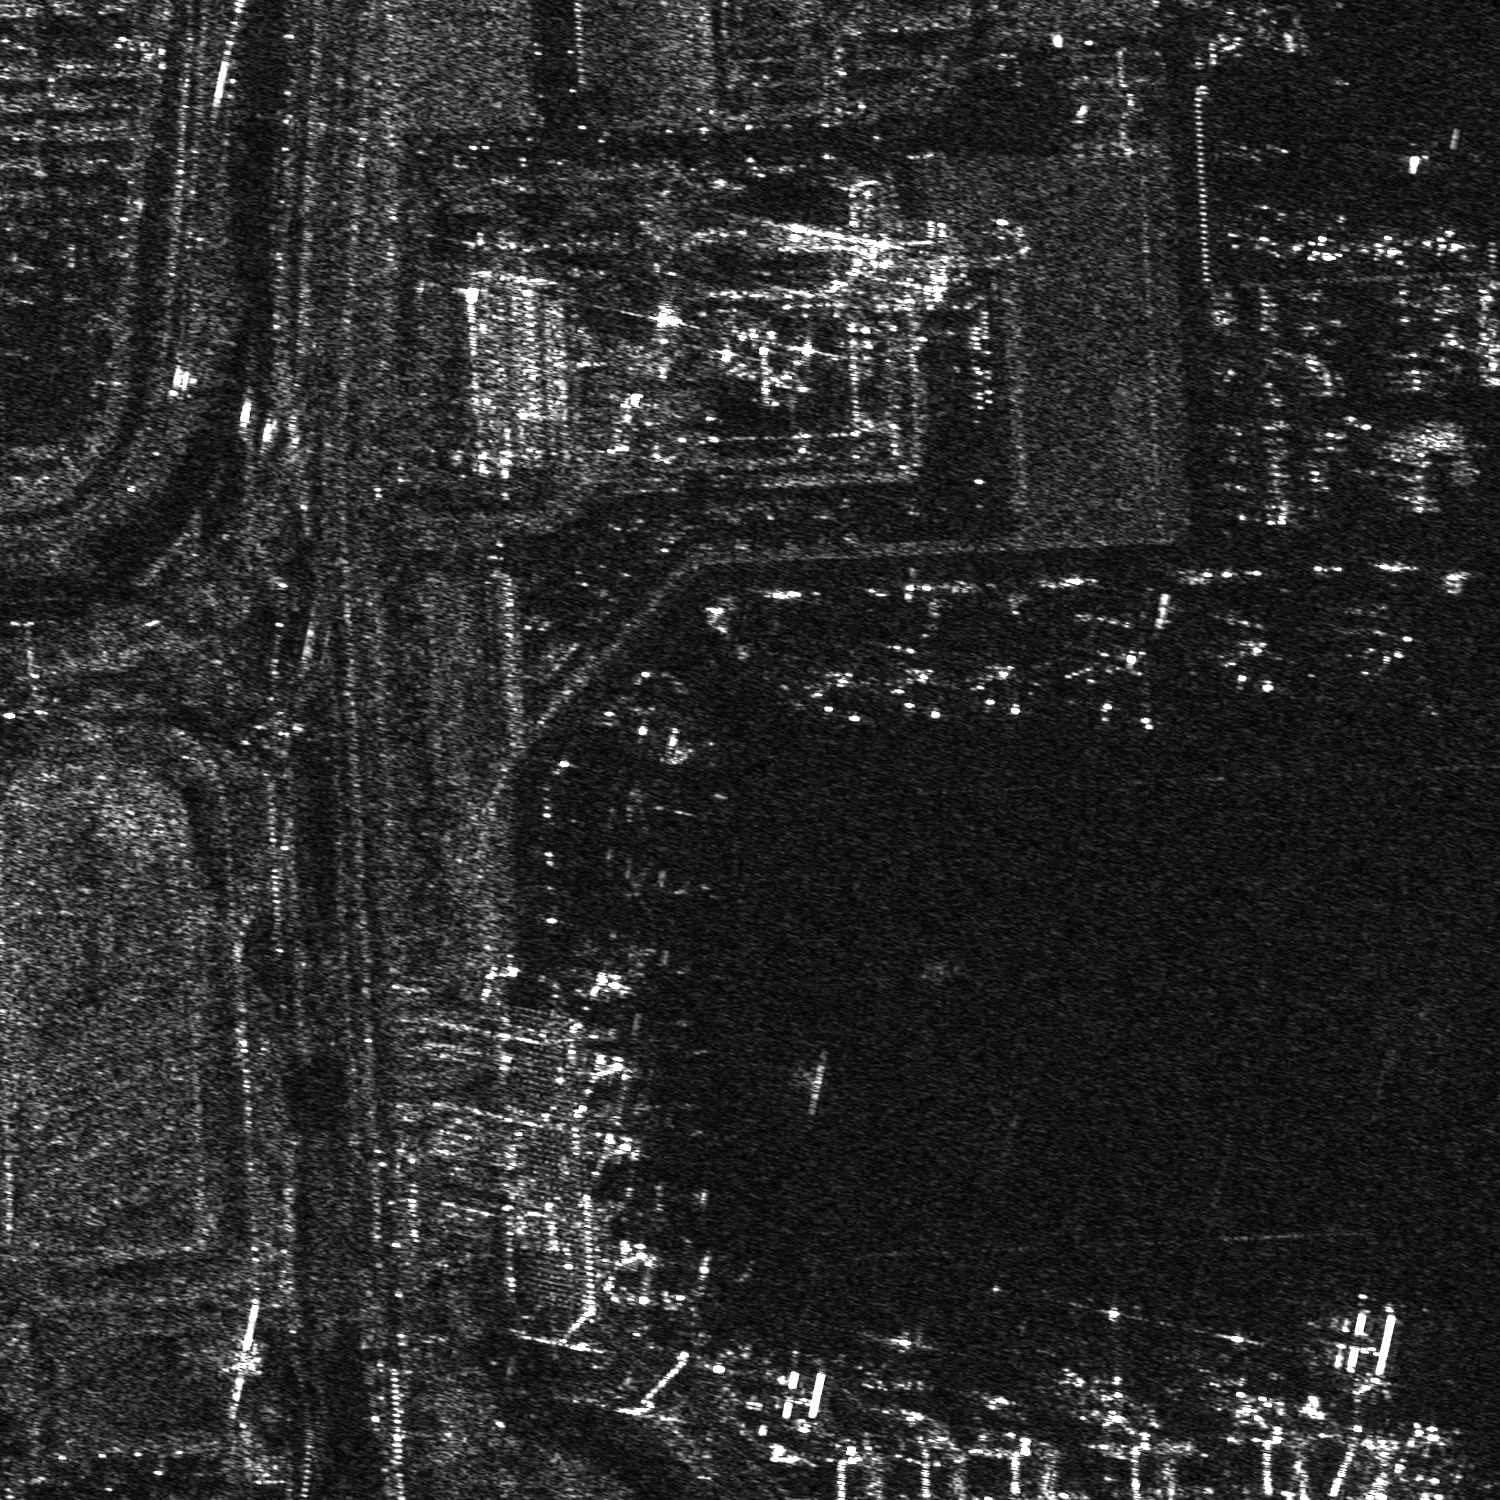A220: (835, 1317, 946, 1405)
A320/321: (1033, 1291, 1146, 1407), (1177, 1317, 1282, 1405)
ARJ21: (1293, 231, 1350, 264)
Boeing737: (1220, 615, 1295, 695), (1346, 609, 1420, 673), (880, 663, 956, 724), (970, 659, 1043, 716), (804, 669, 874, 723)
other: (1063, 636, 1196, 731), (1357, 227, 1413, 268), (1420, 225, 1478, 265)
